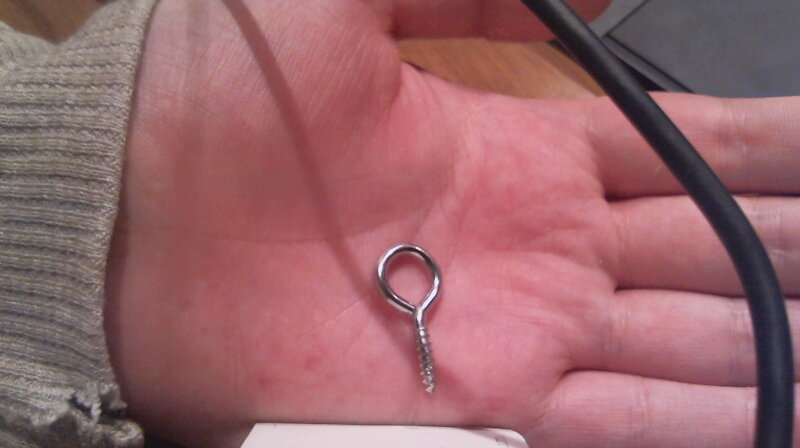O001: (369, 239, 449, 396)
